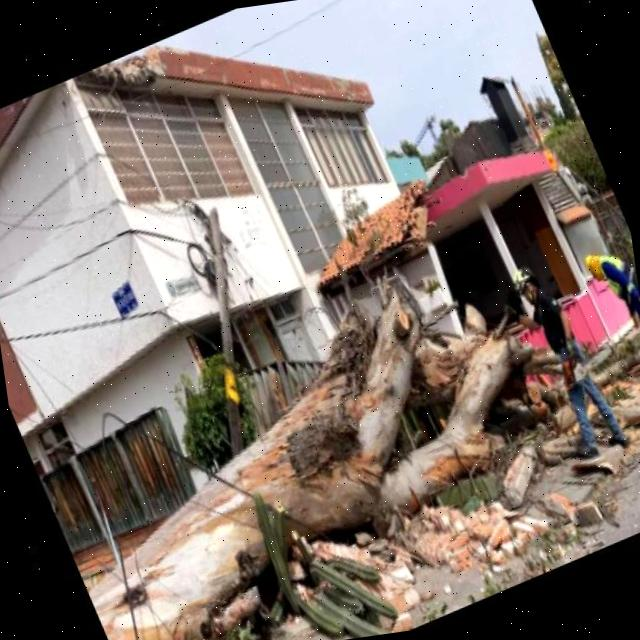Broken Pole: (180, 201, 244, 449)
